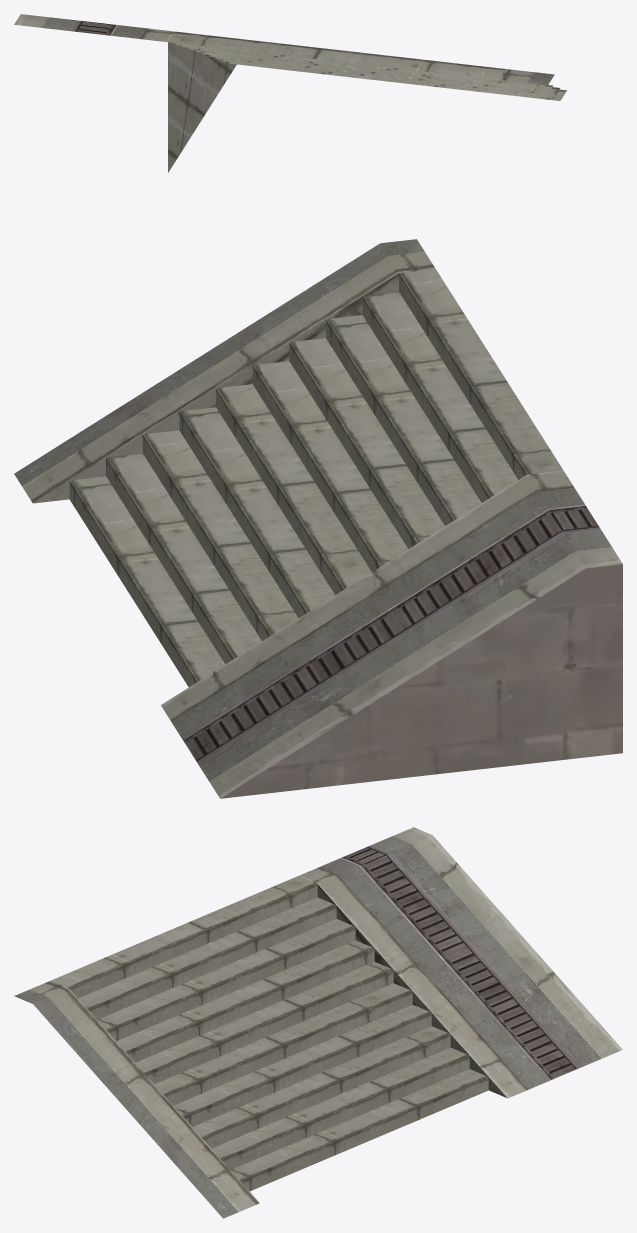
The picture shows the model from 3 angles, top to bottom: view 1: azimuth 30°, elevation 25°; view 2: azimuth 150°, elevation 25°; view 3: azimuth 270°, elevation 25°; orthographic projection. The views are drawn at different scales.
Parts seen in each view (by area): view 1: body0_model0_lod0_mesh1, body0_model0_lod0_mesh0, body0_model0_lod0_mesh2; view 2: body0_model0_lod0_mesh1, body0_model0_lod0_mesh4, body0_model0_lod0_mesh0, body0_model0_lod0_mesh2, body0_model0_lod0_mesh3; view 3: body0_model0_lod0_mesh1, body0_model0_lod0_mesh0, body0_model0_lod0_mesh2, body0_model0_lod0_mesh3.
Part boxes in pixels (bbox=[...]): body0_model0_lod0_mesh1: bbox=[14, 14, 566, 172]; body0_model0_lod0_mesh0: bbox=[42, 17, 554, 85]; body0_model0_lod0_mesh2: bbox=[77, 21, 111, 34]; body0_model0_lod0_mesh1: bbox=[22, 252, 622, 798]; body0_model0_lod0_mesh4: bbox=[220, 564, 622, 798]; body0_model0_lod0_mesh0: bbox=[14, 239, 611, 781]; body0_model0_lod0_mesh2: bbox=[185, 509, 598, 760]; body0_model0_lod0_mesh3: bbox=[182, 504, 600, 764]; body0_model0_lod0_mesh1: bbox=[30, 827, 622, 1211]; body0_model0_lod0_mesh0: bbox=[14, 836, 601, 1218]; body0_model0_lod0_mesh2: bbox=[346, 847, 575, 1078]; body0_model0_lod0_mesh3: bbox=[340, 845, 580, 1080].
Bounding box in the file's own units: 329 × 80.01 × 329.
Materials: 5 (5 with a texture image).
